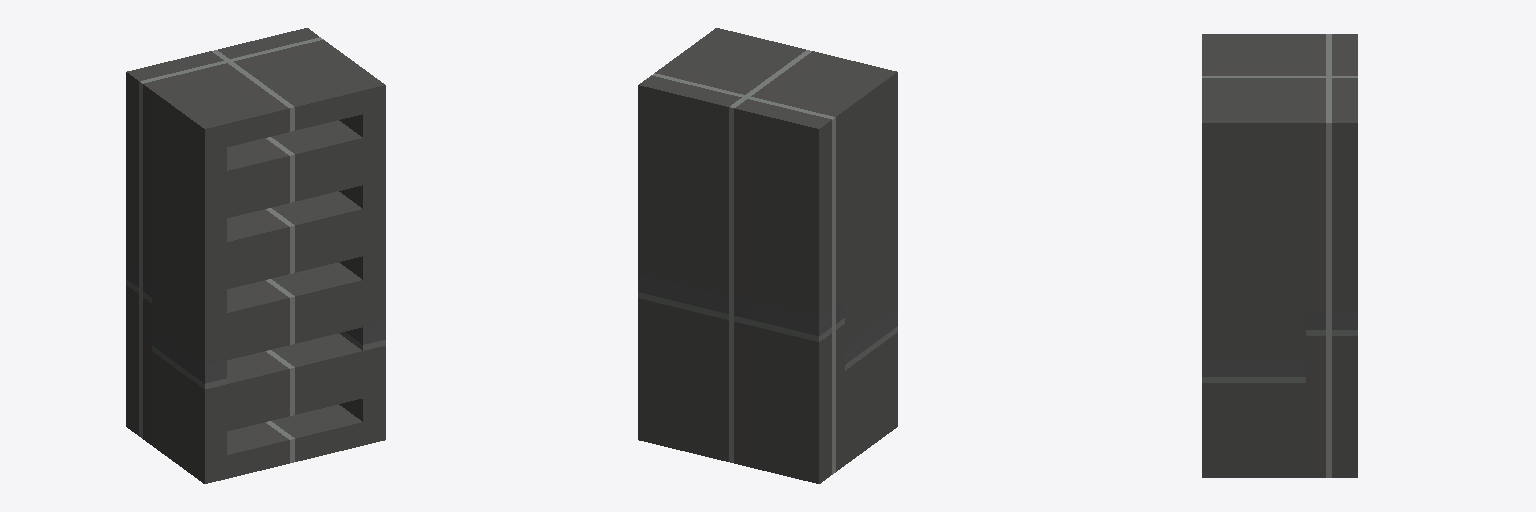
3 views of the same model, side by side, from view 1: azimuth 30°, elevation 25°; view 2: azimuth 150°, elevation 25°; view 3: azimuth 270°, elevation 25° (orthographic).
Visible parts, largest first — view 1: 116, 101, 115, 114, 66, 90, 102, 96, 100; view 2: 101, 116, 114, 100, 115; view 3: 115, 101, 114, 100, 116.
Boxes of the visible parts, <box> form: 116: <box>152,86,226,460</box>; 101: <box>126,28,332,444</box>; 115: <box>311,47,385,421</box>; 114: <box>175,52,362,146</box>; 66: <box>227,120,362,217</box>; 90: <box>227,191,362,288</box>; 102: <box>227,333,362,430</box>; 96: <box>227,262,362,359</box>; 100: <box>152,404,385,483</box>; 101: <box>638,66,844,483</box>; 116: <box>823,66,897,441</box>; 114: <box>687,33,874,103</box>; 100: <box>845,403,897,464</box>; 115: <box>665,28,738,70</box>; 115: <box>1202,112,1305,453</box>; 101: <box>1306,34,1357,477</box>; 114: <box>1202,45,1305,111</box>; 100: <box>1202,454,1305,477</box>; 116: <box>1202,34,1305,44</box>.
Size of the model in its own units: 8 by 15 by 6.
2 materials, 2 textured.